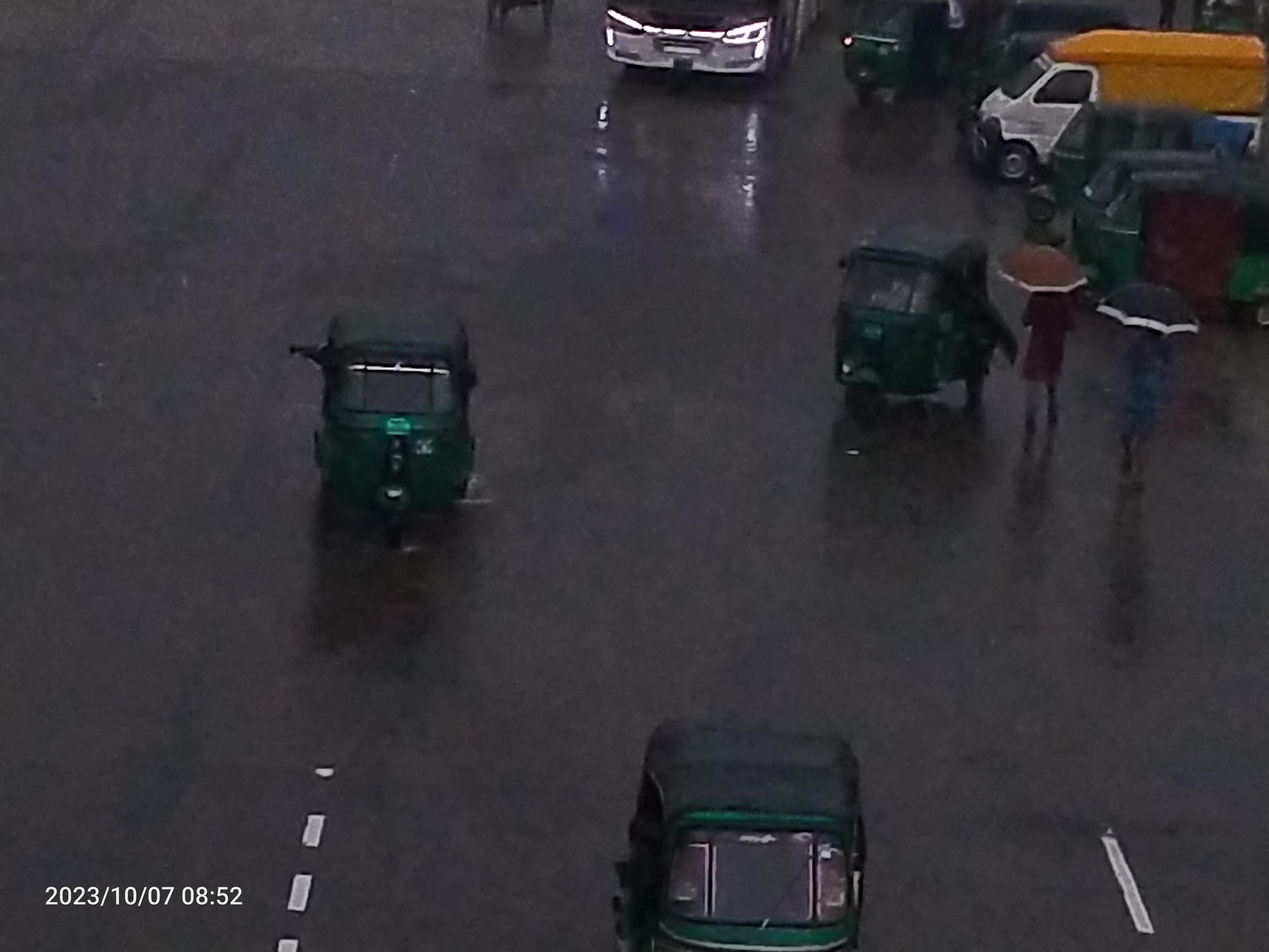Bus: (577, 0, 861, 107)
Car: (962, 17, 1269, 210)
